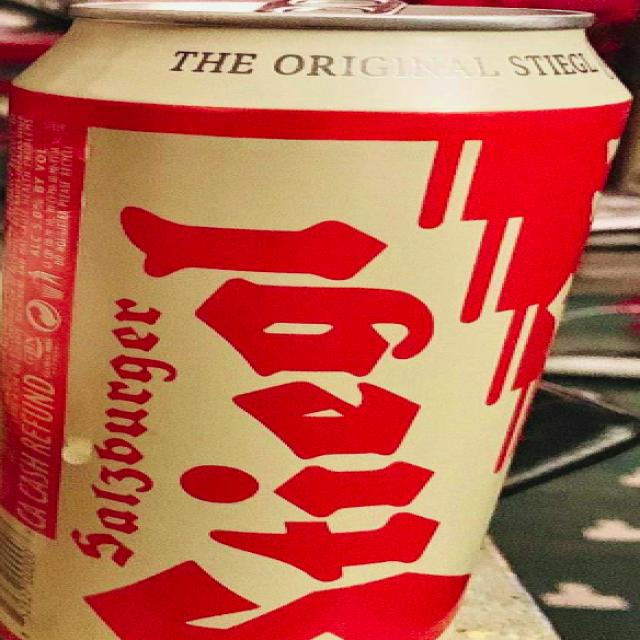STIEGL Goldbrau: (0, 1, 640, 640)
